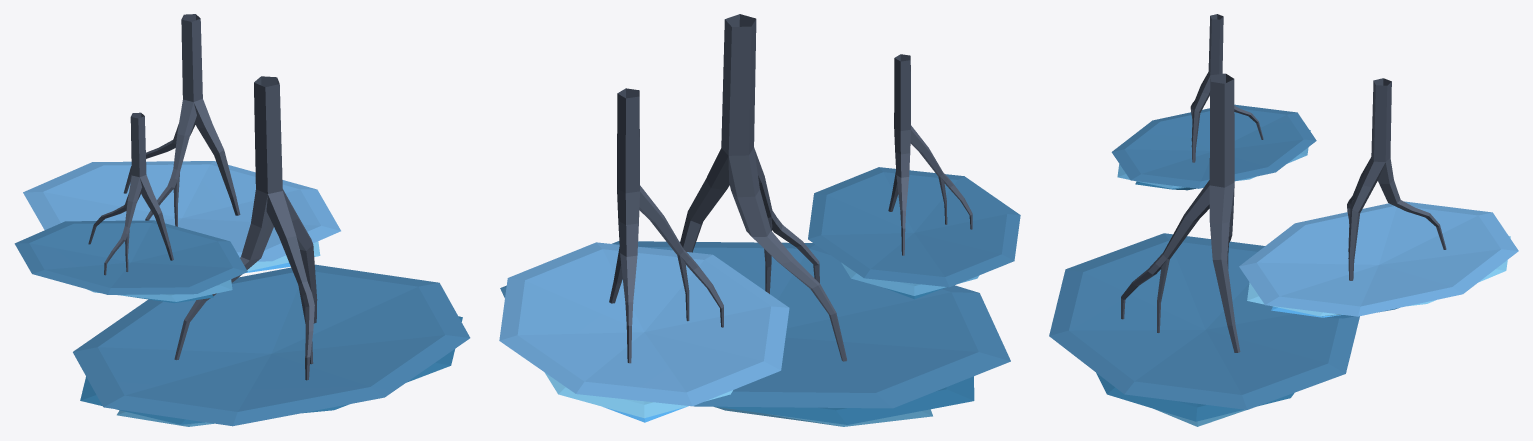
Rendered from sp_plant07.glb.
3 renders of one model, left to right at view 1: azimuth 30°, elevation 25°; view 2: azimuth 150°, elevation 25°; view 3: azimuth 270°, elevation 25°, orthographic. The views are drawn at different scales.
Parts seen in each view (by area): view 1: SP_Plant07; view 2: SP_Plant07; view 3: SP_Plant07.
Boxes of the visible parts, x1=… form: SP_Plant07: x1=14, y1=14, x2=470, y2=426; SP_Plant07: x1=499, y1=14, x2=1020, y2=426; SP_Plant07: x1=1049, y1=14, x2=1518, y2=426.
Bounding box in the file's own units: 52.35 × 37.98 × 53.54.
Materials: 1 (1 with a texture image).
